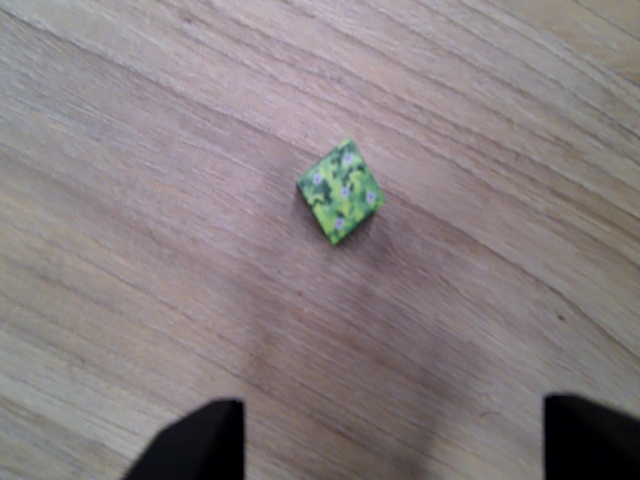grass: (295, 135, 388, 245)
